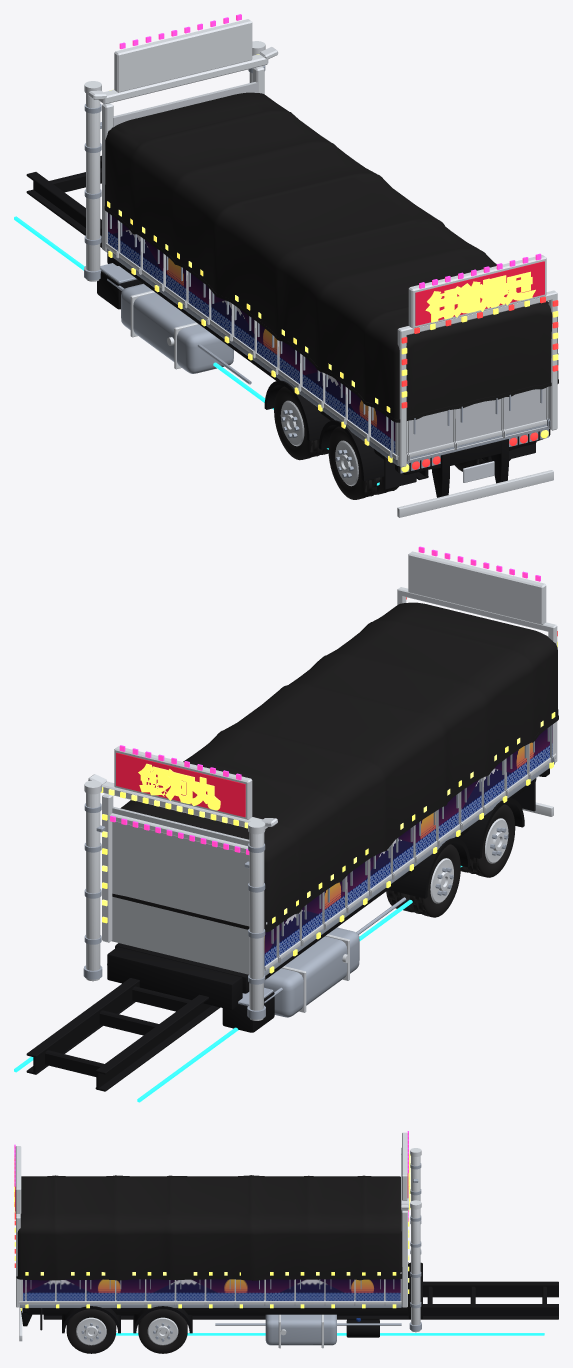
File: body_graneleira.glb
3 renders of one model, top to bottom at view 1: azimuth 30°, elevation 25°; view 2: azimuth 150°, elevation 25°; view 3: azimuth 270°, elevation 25°, orthographic. The views are drawn at different scales.
Parts seen in each view (by area): view 1: truck_plastic_trim, truck_chrome, truck_steel, truck_plastic_black, truck_mural, truck_paint_white_panel, truck_lamp_amber, wheel_r_L_1.5_1.06, wheel_r_L_3.0_1.06, truck_andon_panel, truck_lamp_red, truck_rubber (+2 smaller); view 2: truck_plastic_trim, truck_chrome, truck_plastic_black, truck_paint_white_panel, truck_steel, truck_mural, truck_lamp_amber, truck_andon_panel, wheel_r_L_3.0_1.06, wheel_r_L_1.5_1.06, truck_lamp_pink, truck_lamp_cyan; view 3: truck_plastic_trim, truck_plastic_black, truck_mural, truck_chrome, truck_steel, wheel_r_R_1.5_1.06, wheel_r_R_3.0_1.06, truck_lamp_cyan, truck_lamp_amber.
Part boxes in pixels (x1,y1,x2,y2): truck_plastic_trim: (104, 92, 558, 422); truck_chrome: (84, 19, 557, 517); truck_steel: (84, 65, 550, 473); truck_plastic_black: (26, 155, 550, 497); truck_mural: (108, 213, 395, 453); truck_paint_white_panel: (113, 82, 548, 452); truck_lamp_amber: (107, 54, 558, 472); wheel_r_L_1.5_1.06: (328, 426, 381, 499); wheel_r_L_3.0_1.06: (274, 386, 324, 460); truck_andon_panel: (415, 261, 544, 325); truck_lamp_red: (401, 296, 558, 469); truck_rubber: (384, 443, 535, 489); truck_plastic_trim: (112, 602, 558, 932); truck_chrome: (84, 551, 557, 1020); truck_plastic_black: (26, 768, 549, 1091); truck_paint_white_panel: (111, 806, 249, 974); truck_steel: (83, 725, 554, 1019); truck_mural: (264, 725, 552, 968); truck_lamp_amber: (101, 641, 557, 973); truck_andon_panel: (116, 752, 245, 817); wheel_r_L_3.0_1.06: (407, 844, 460, 917); wheel_r_L_1.5_1.06: (465, 804, 515, 877); truck_lamp_pink: (110, 546, 540, 854); truck_lamp_cyan: (14, 866, 462, 1102); truck_plastic_trim: (16, 1175, 402, 1280); truck_plastic_black: (21, 1262, 558, 1337); truck_mural: (23, 1279, 400, 1300); truck_chrome: (15, 1132, 421, 1348); truck_steel: (20, 1163, 421, 1345); wheel_r_R_1.5_1.06: (66, 1309, 116, 1353); wheel_r_R_3.0_1.06: (138, 1309, 187, 1353); truck_lamp_cyan: (116, 1333, 544, 1335); truck_lamp_amber: (14, 1150, 410, 1311).
Bounding box in the file's own units: 2.94 × 4.15 × 11.42.
Materials: 16 (4 with a texture image).
